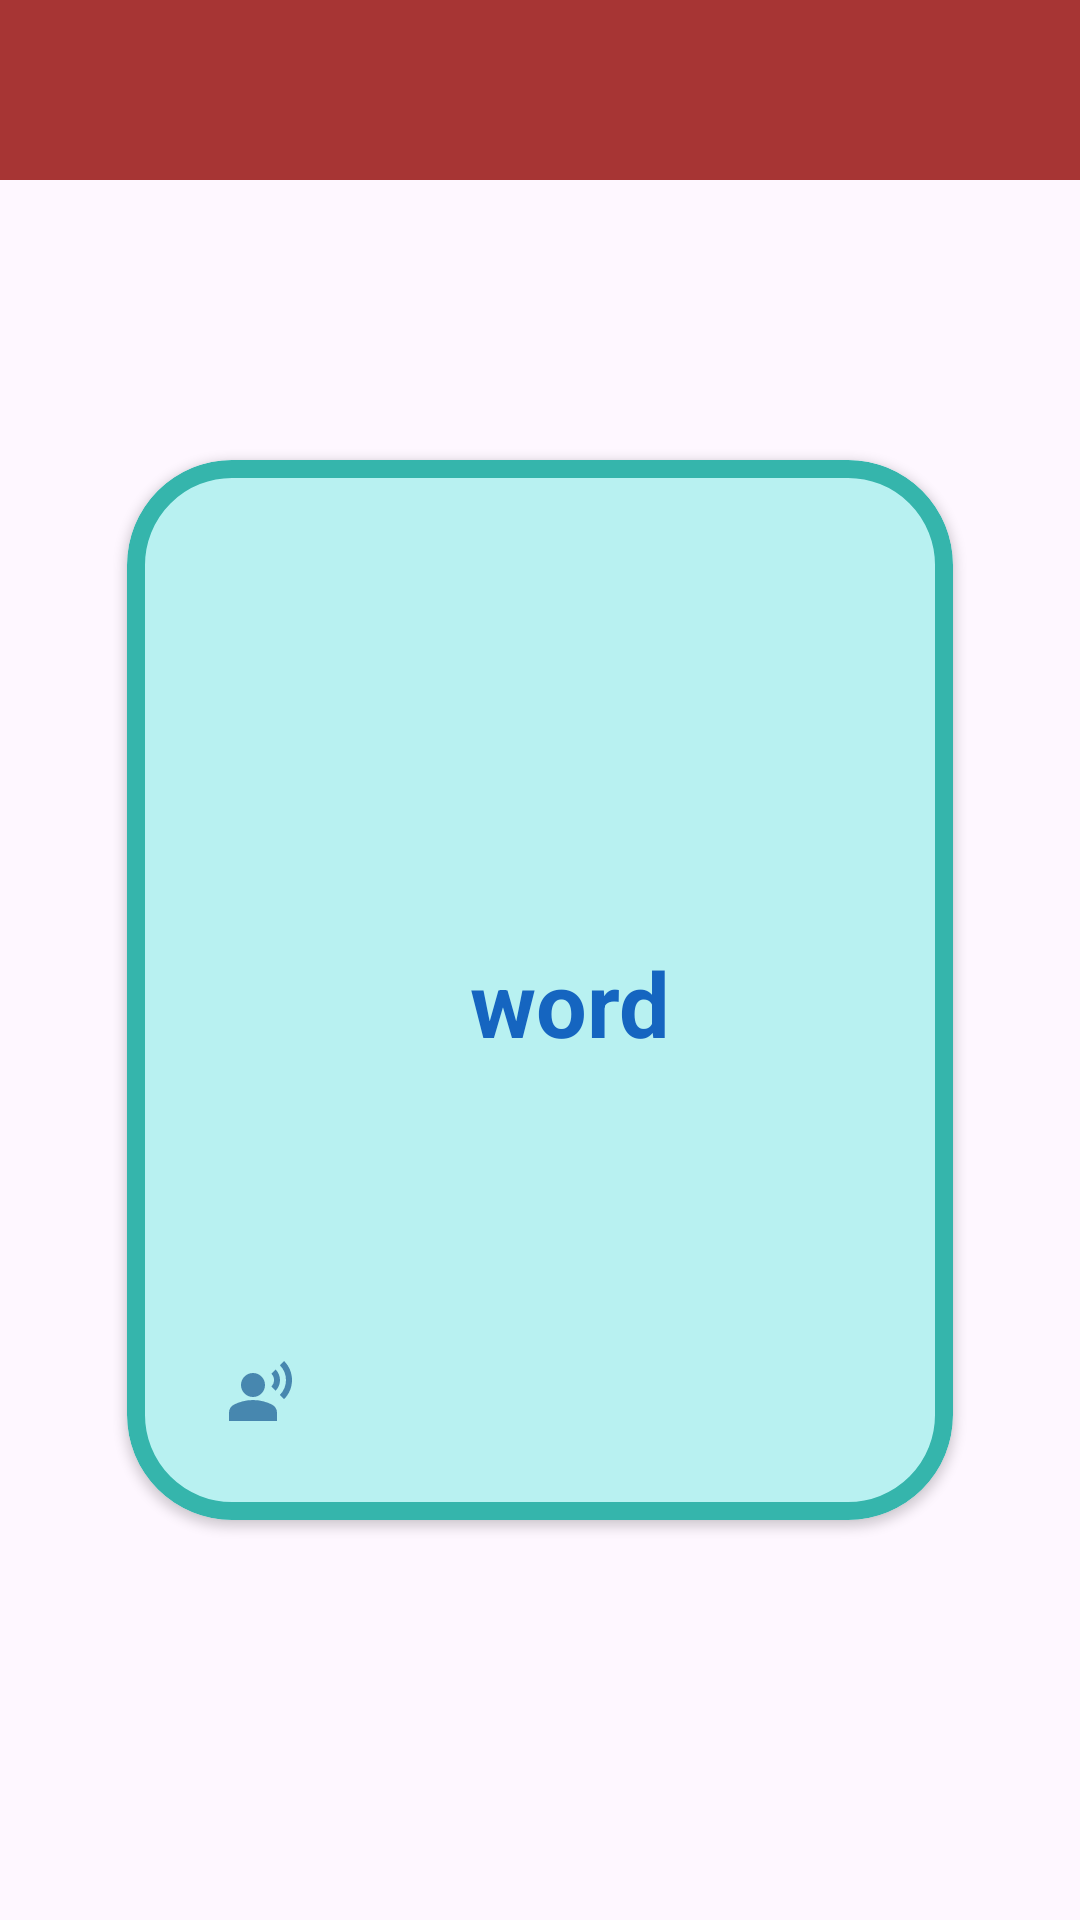

Icon click points for this 1080×1920 phone screenshot, format point (x, y):
spatial audio: point (260, 1391)
